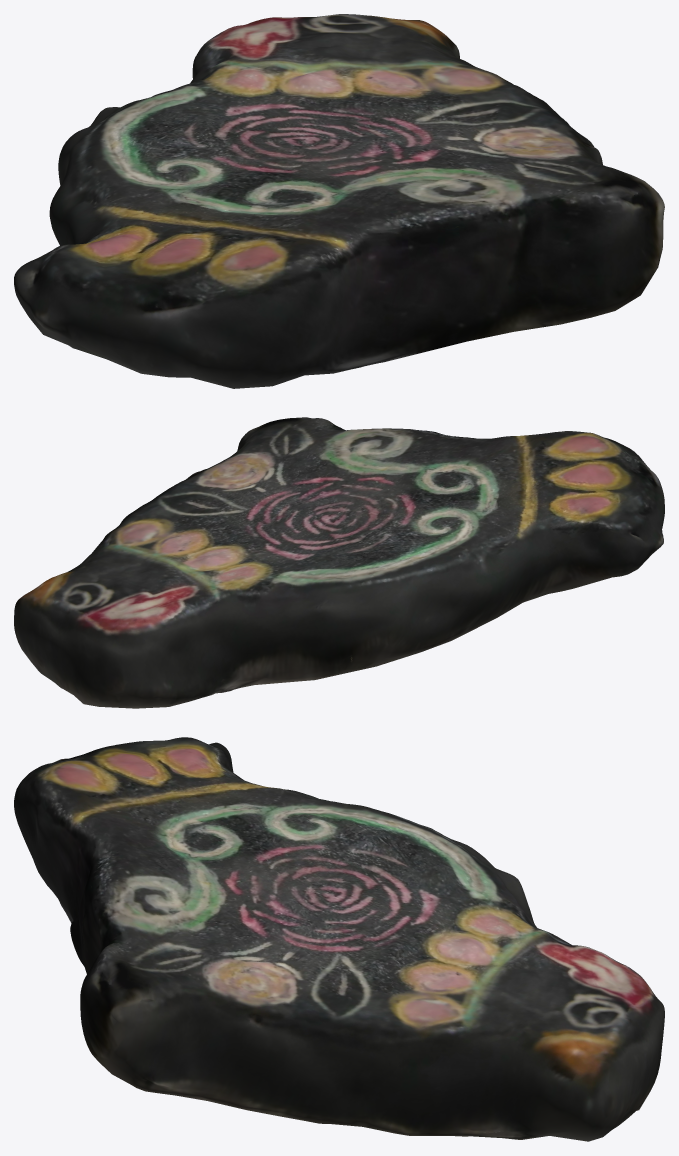
3 views of the same model, one above another, from view 1: azimuth 30°, elevation 25°; view 2: azimuth 150°, elevation 25°; view 3: azimuth 270°, elevation 25° (orthographic). The views are drawn at different scales.
Size of the model in its own units: 0.5856 by 0.1868 by 0.5886.
Materials: 1 (1 with a texture image).
